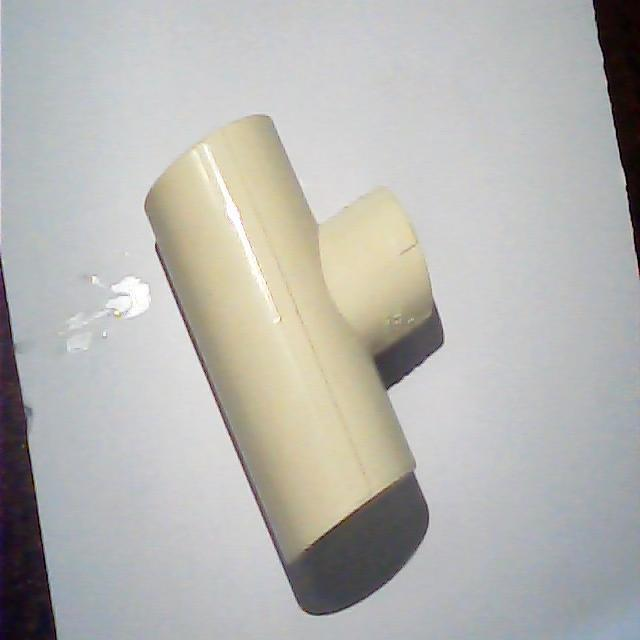T Joint: (143, 114, 436, 619)
